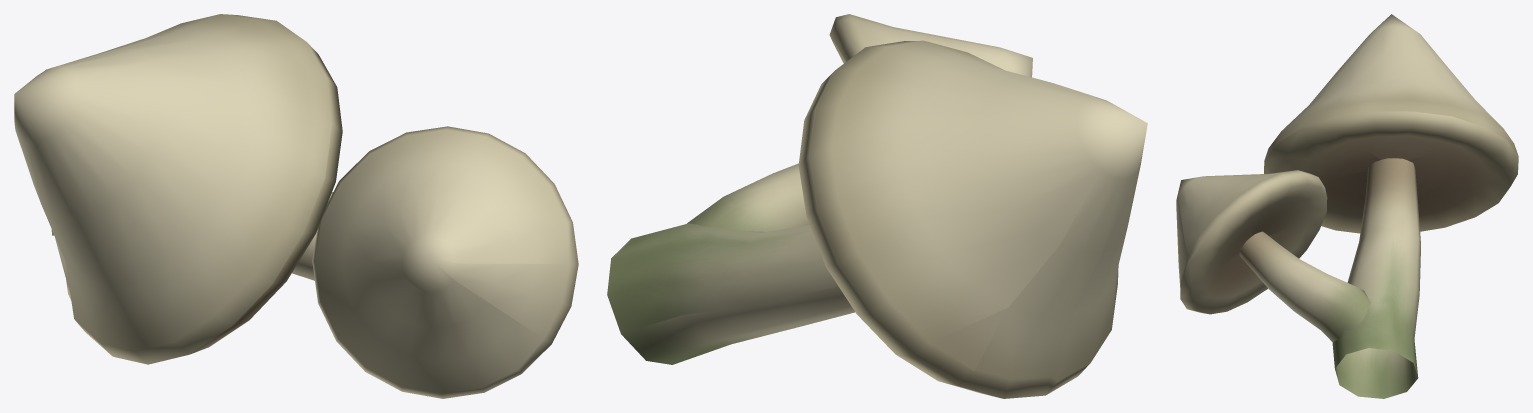
The model's file is Pot_FloreNFaunaFeat_R_arm01.fbx.
3 views of the same model, side by side, from view 1: azimuth 30°, elevation 25°; view 2: azimuth 150°, elevation 25°; view 3: azimuth 270°, elevation 25° (orthographic). The views are drawn at different scales.
Parts seen in each view (by area): view 1: Pot_NatureFeat_R_arm01; view 2: Pot_NatureFeat_R_arm01; view 3: Pot_NatureFeat_R_arm01.
Part boxes in pixels (bbox=[...]): Pot_NatureFeat_R_arm01: bbox=[14, 14, 578, 398]; Pot_NatureFeat_R_arm01: bbox=[607, 14, 1147, 398]; Pot_NatureFeat_R_arm01: bbox=[1176, 14, 1518, 398].
Bounding box in the file's own units: 18.28 × 12.19 × 15.78.
1 material, 1 textured.
